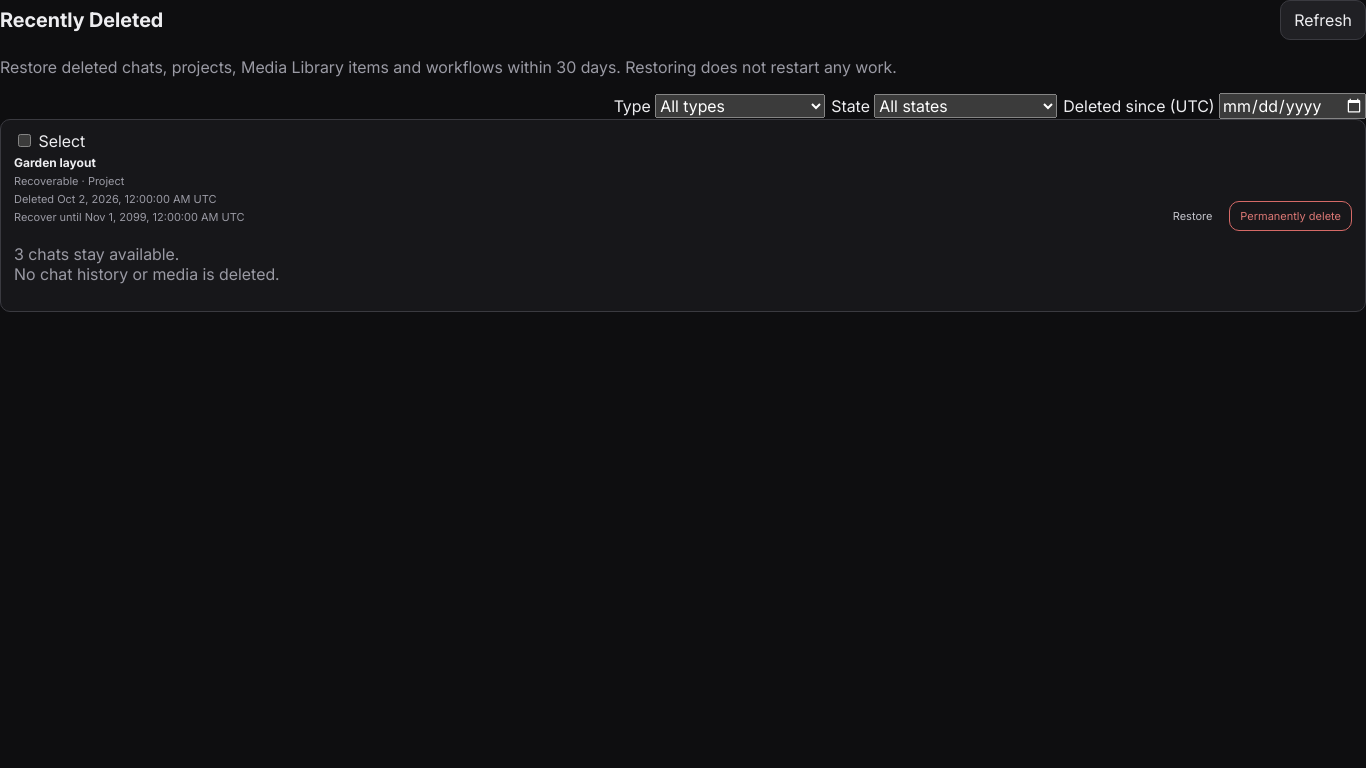
Scenario: confirms Project purge while keeping its chats and media available
Click the button with aria-label "Permanently delete Garden layout" at [1291, 216], box [1229,200,1352,230]
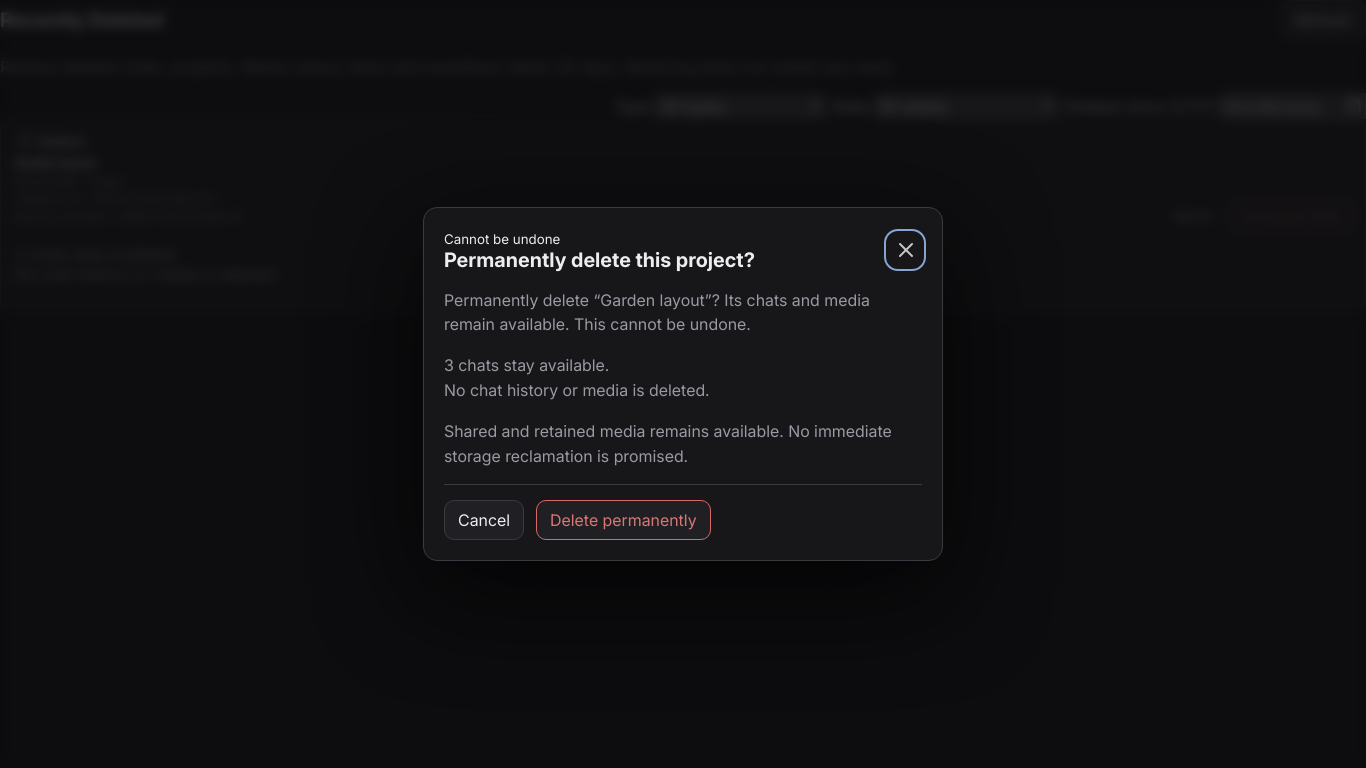
Expected: the text "Its chats and media remain available" is shown, [444,290,870,334]
Click the button "Cancel" at [484, 520], box [444,500,524,540]
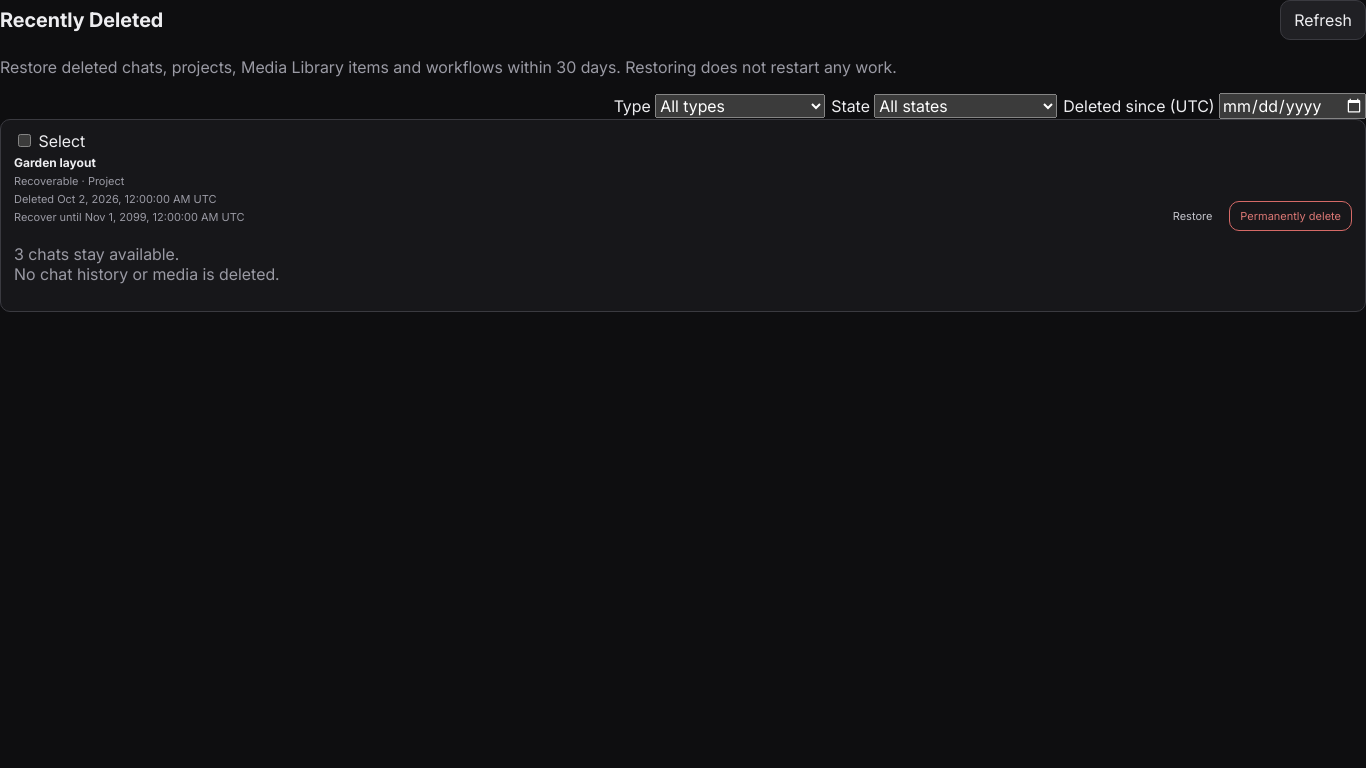
Click the button with aria-label "Permanently delete Garden layout" at [1291, 216], box [1229,200,1352,230]
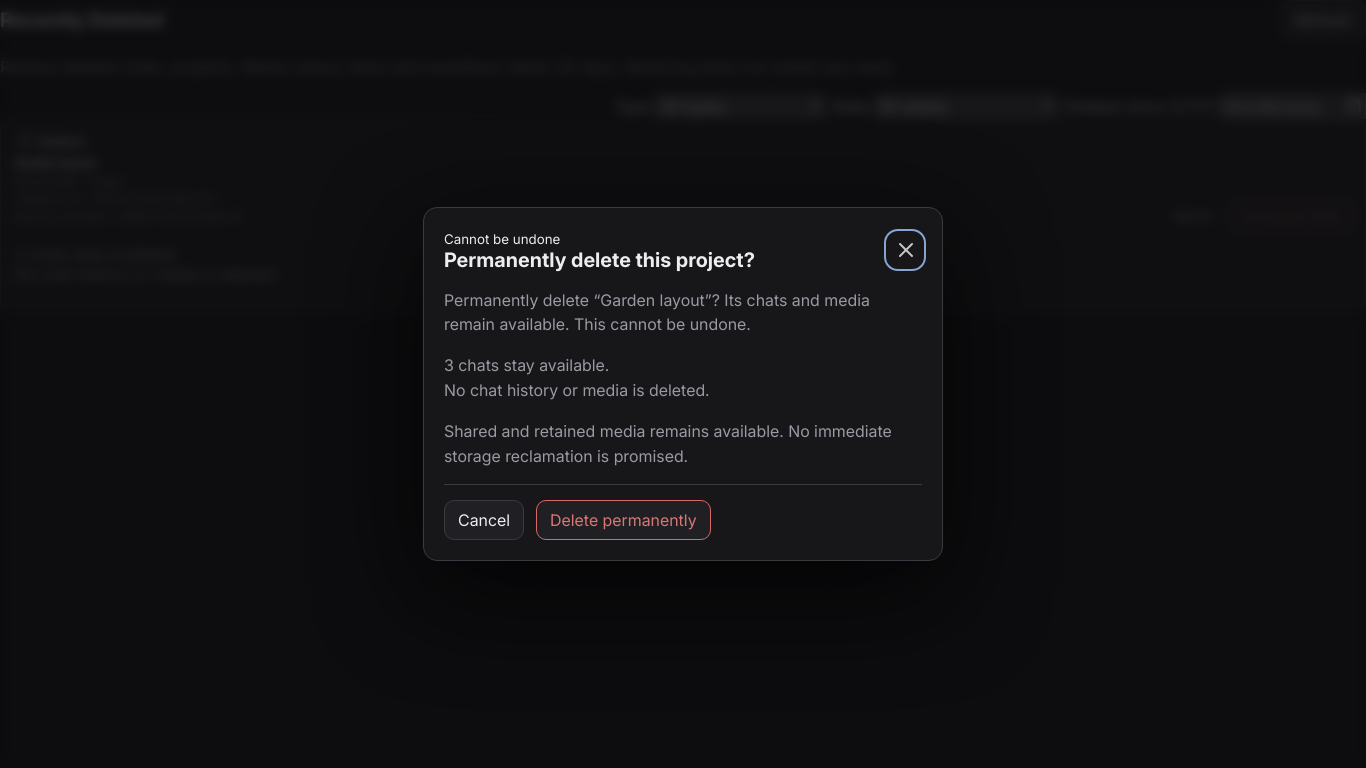
Click the button "Delete permanently" at [623, 520], box [536,500,711,540]
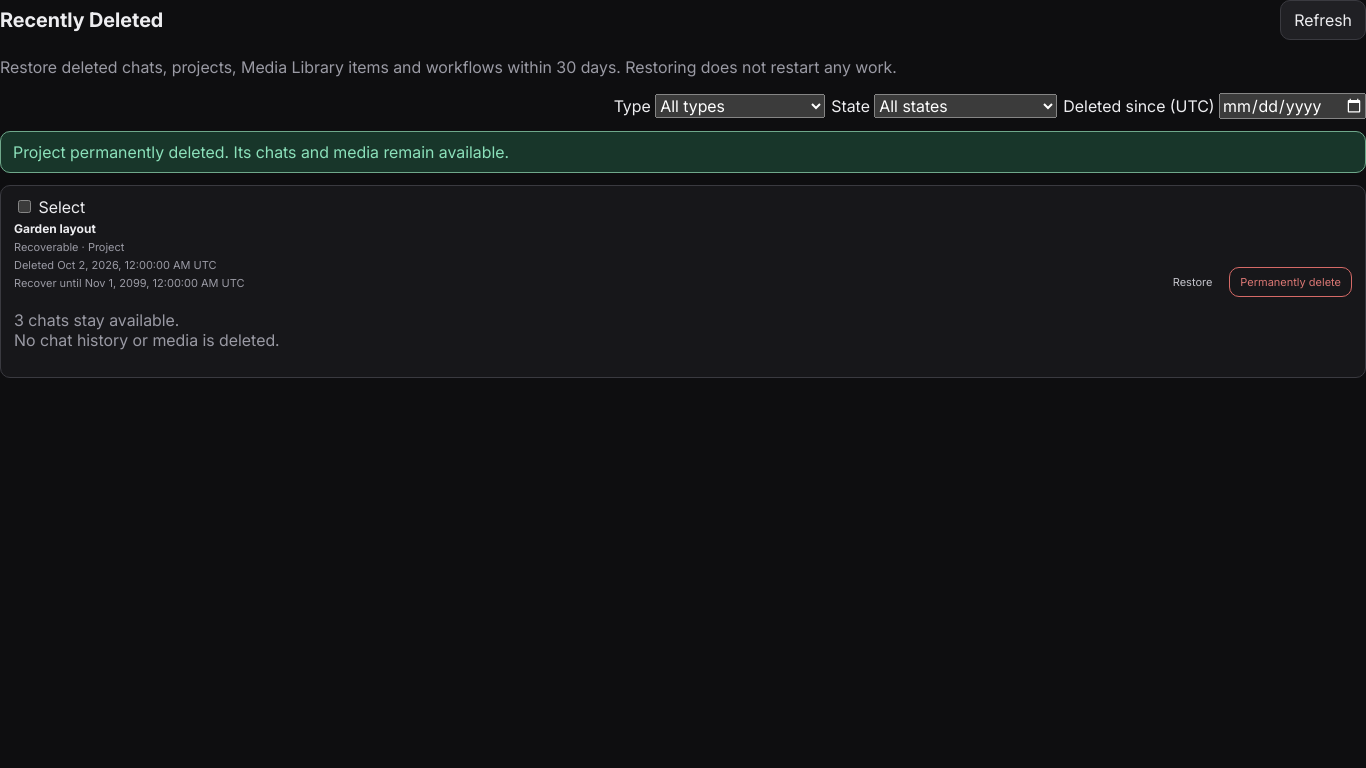
Expected: the text "Project permanently deleted. Its chats and media remain available." is shown, [0,131,1365,173]
